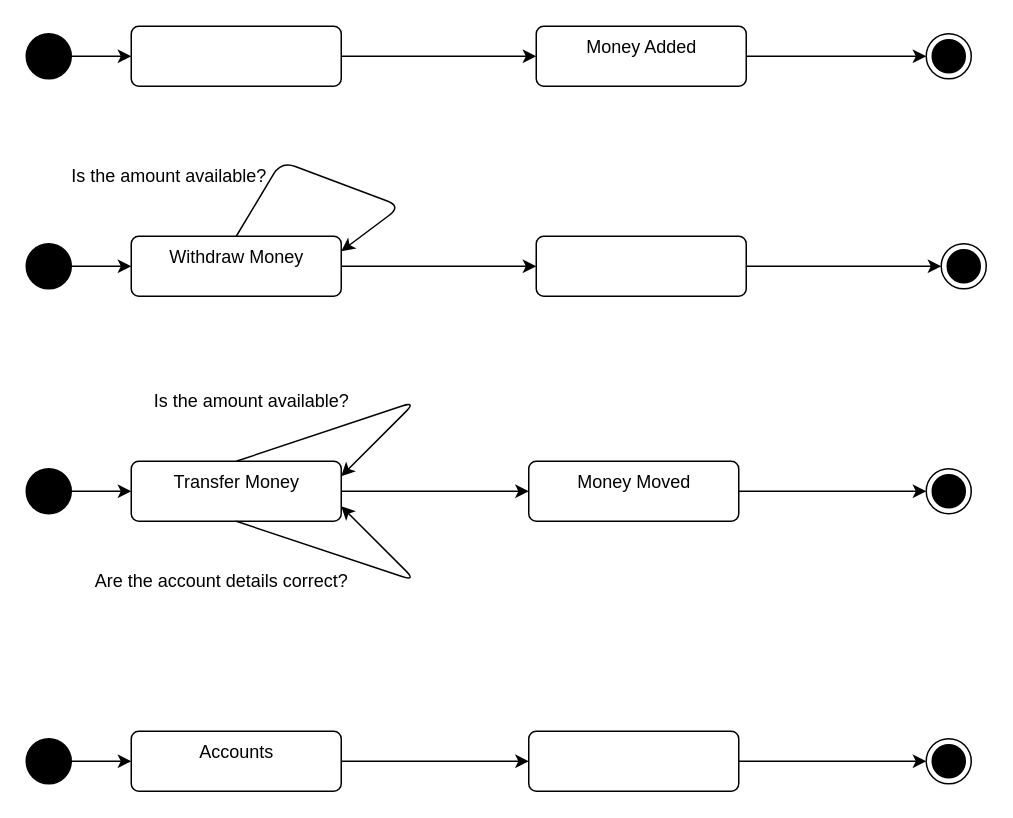
This 1013x818 diagram has some shape labels left out. Each missing label, with the centre of its shape:
Account details shown: (633,760)
Deposit Money: (235,55)
Money Removed: (640,265)
